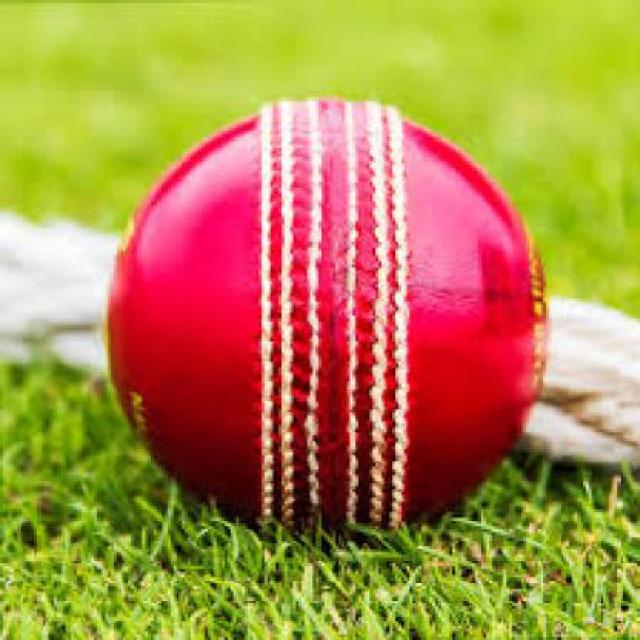ball: (104, 56, 566, 564)
